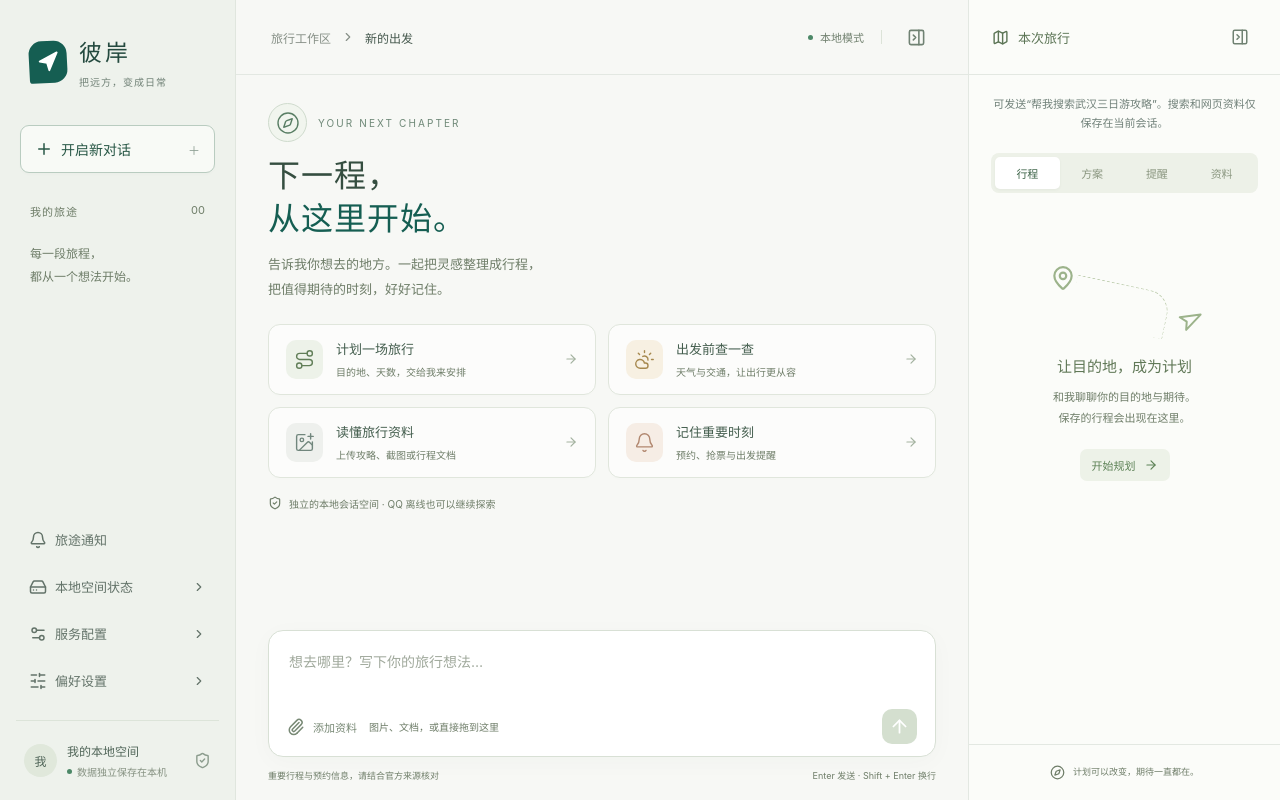
local conversation interactions › does not render raw HTML or executable links from a model reply
The width and height of the screenshot is (1280, 800).
Expected: the button "计划一场旅行 目的地、天数，交给我来安排" is enabled, [268,324,596,395]
Click the button "开启新对话 ＋" at coordinates (118, 149), box [20,125,215,173]
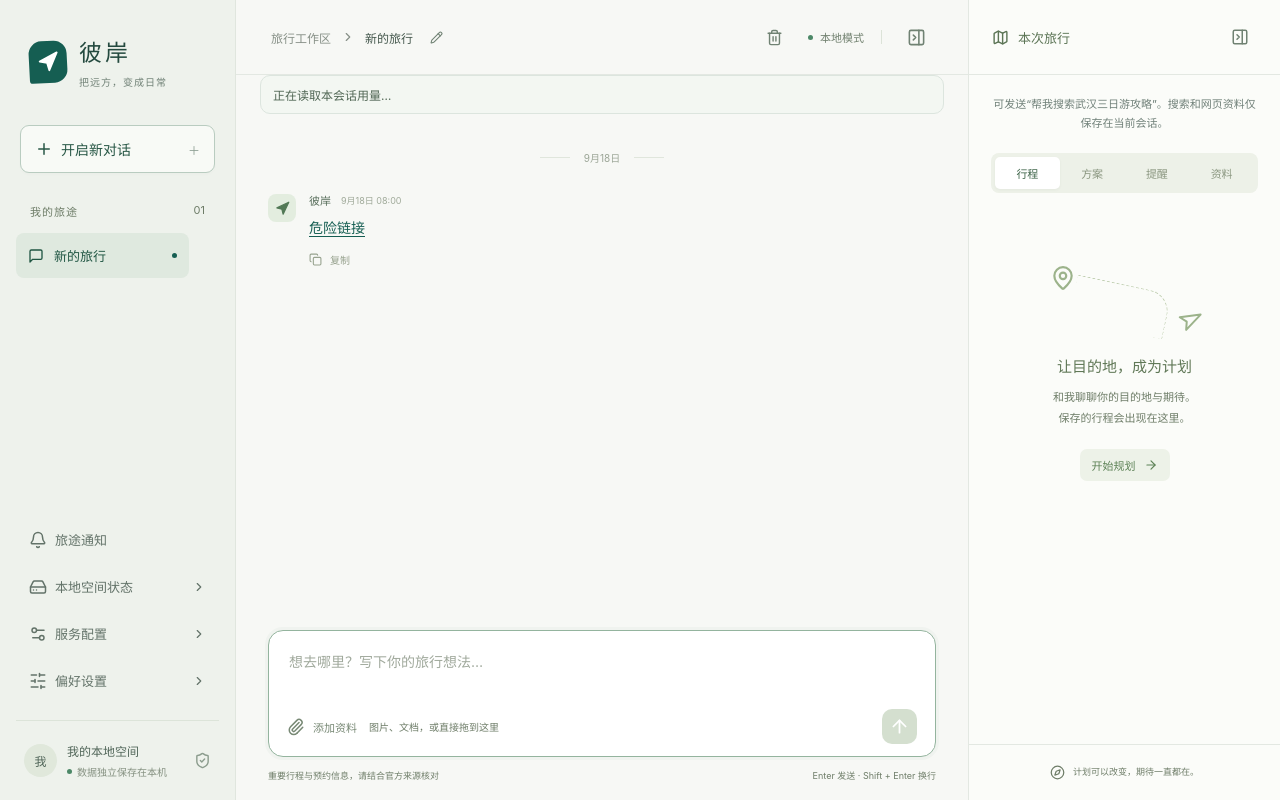
Expected: the link "危险链接" is shown, [309,219,365,236]
